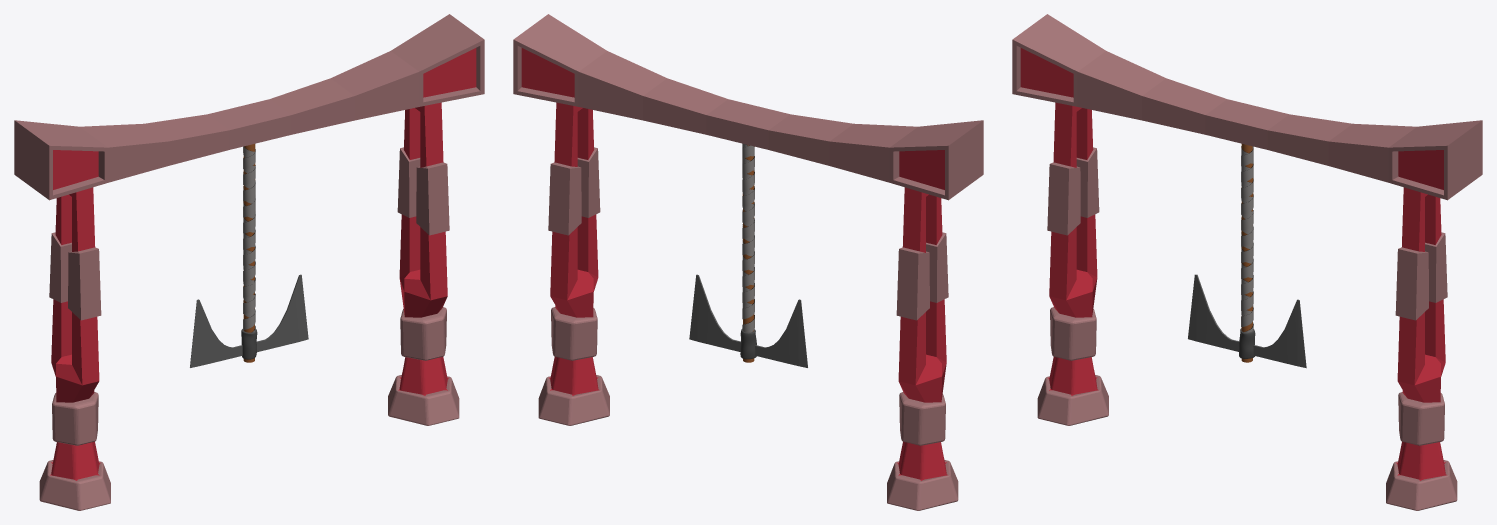
The model's file is sallananbalta.fbx.
3 views of the same model, side by side, from view 1: azimuth 30°, elevation 25°; view 2: azimuth 150°, elevation 25°; view 3: azimuth 330°, elevation 25° (orthographic).
Parts seen in each view (by area): view 1: Cube, Cube.001, Plane; view 2: Cube, Cube.001, Plane; view 3: Cube, Cube.001, Plane.
Boxes of the visible parts, x1,y1,x2,y2 form: Cube: [39, 102, 459, 510]; Cube.001: [14, 14, 484, 200]; Plane: [190, 144, 308, 367]; Cube: [538, 102, 958, 510]; Cube.001: [513, 14, 983, 200]; Plane: [689, 143, 807, 367]; Cube: [1037, 102, 1457, 510]; Cube.001: [1012, 14, 1482, 200]; Plane: [1188, 144, 1306, 368].
Bounding box in the file's own units: 96.35 × 78.56 × 15.54.
